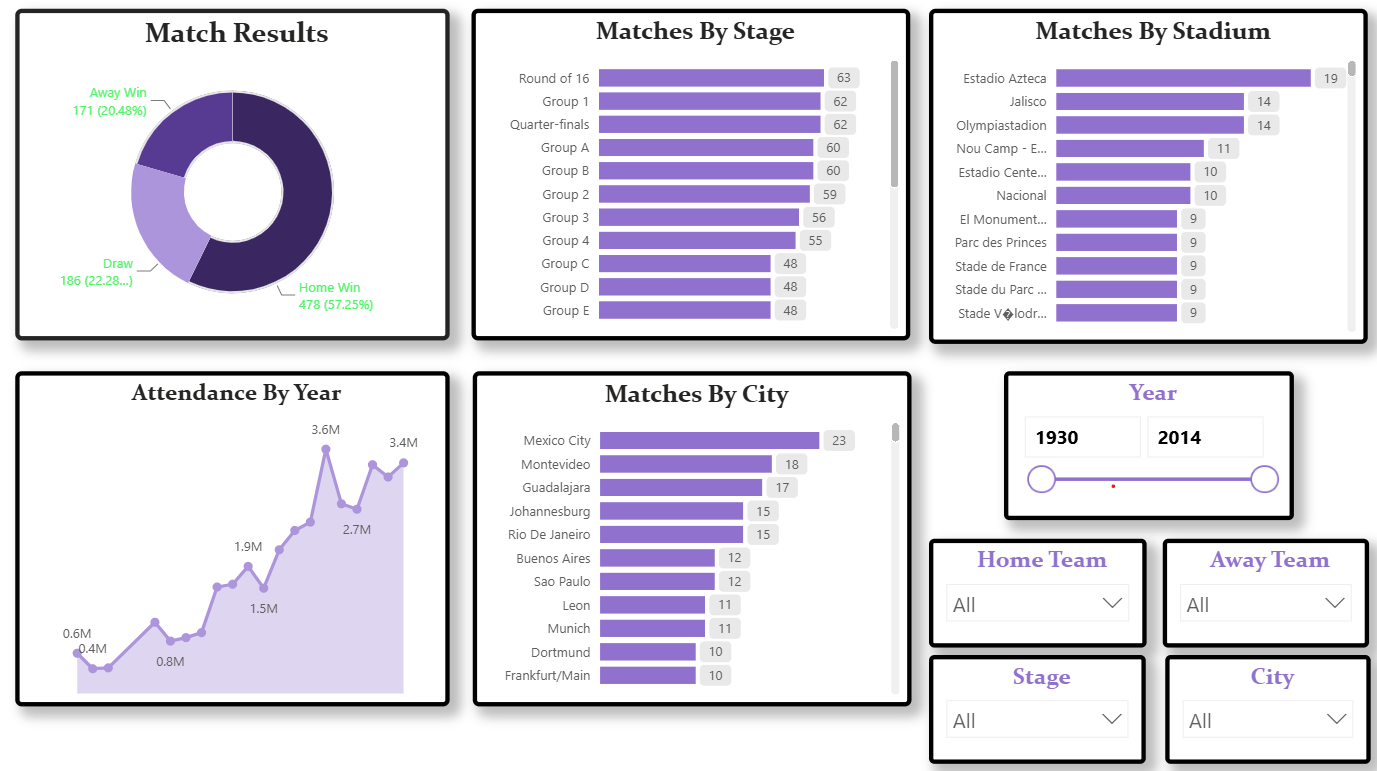

The dashboard page shown, as its layout file describes it:
{"tool":"powerbi","page":{"name":"Overview 2","canvas":[1280,720],"ordinal":1},"visuals":[{"type":"donutChart","title":"Match Results","fields":{"Y":["CountNonNull(WorldCupMatches1.Match Result)"],"Category":["WorldCupMatches1.Match Result"]},"box":[24.2,17.1,399.1,305],"z":0},{"type":"barChart","title":"Matches By Stage","fields":{"Y":["CountNonNull(WorldCupMatches1.MatchID)"],"Category":["WorldCupMatches1.Stage"]},"box":[443.3,17.1,403.4,305],"z":1000},{"type":"areaChart","title":"Attendance By Year","fields":{"Y":["Sum(WorldCupMatches1.Attendance)"],"Category":["WorldCupMatches1.Year"]},"box":[24.2,350.6,399.1,307.9],"z":2000},{"type":"barChart","title":"Matches By Stadium","fields":{"Y":["CountNonNull(WorldCupMatches1.MatchID)"],"Category":["WorldCupMatches1.Stadium"]},"box":[863.8,17.1,403.4,307.9],"z":3000},{"type":"barChart","title":"Matches By City","fields":{"Y":["CountNonNull(WorldCupMatches1.MatchID)"],"Category":["WorldCupMatches1.City"]},"box":[444.7,350.6,403.4,307.9],"z":4000},{"type":"slicer","title":"Year","fields":{"Values":["WorldCupMatches1.Year"]},"box":[932.2,350.6,266.5,136.8],"z":5000},{"type":"slicer","title":"Home Team","fields":{"Values":["WorldCupMatches1.Home Team Name"]},"box":[863.8,504.6,200,100],"z":6000},{"type":"slicer","title":"Away Team","fields":{"Values":["WorldCupMatches1.Away Team Name"]},"box":[1079,504.6,189.6,100],"z":7000},{"type":"slicer","title":"Stage","fields":{"Values":["WorldCupMatches1.Stage"]},"box":[863.8,611.5,199.6,99.8],"z":8000},{"type":"slicer","title":"City","fields":{"Values":["WorldCupMatches1.City"]},"box":[1080.4,611.5,189,99.8],"z":9000}]}

Visuals, with their boxes in screenshot pixels (x1, y1, x2, y2), scaled from the page's 1280x720 canvas onto the 1377x771 screenshot:
"Match Results" donutChart: crop(26, 18, 455, 345)
"Matches By Stage" barChart: crop(477, 18, 911, 345)
"Attendance By Year" areaChart: crop(26, 375, 455, 705)
"Matches By Stadium" barChart: crop(929, 18, 1363, 348)
"Matches By City" barChart: crop(478, 375, 912, 705)
"Year" slicer: crop(1003, 375, 1290, 522)
"Home Team" slicer: crop(929, 540, 1144, 647)
"Away Team" slicer: crop(1161, 540, 1365, 647)
"Stage" slicer: crop(929, 655, 1144, 762)
"City" slicer: crop(1162, 655, 1366, 762)
